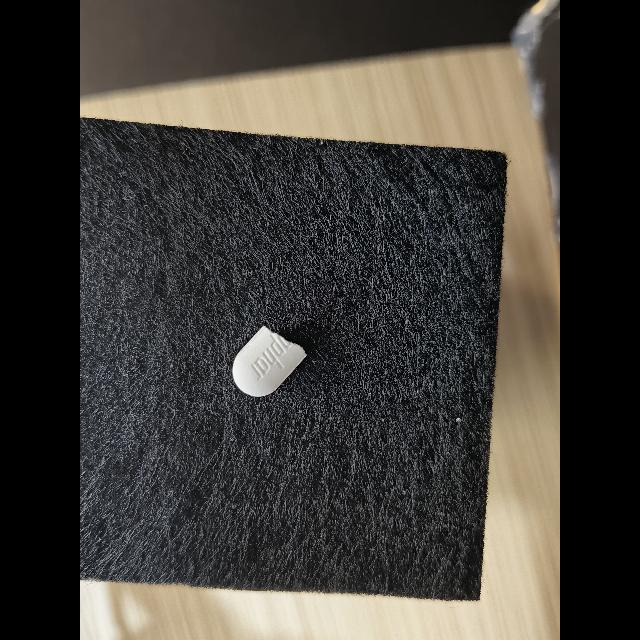Chipped Pill: (232, 326, 307, 397)
